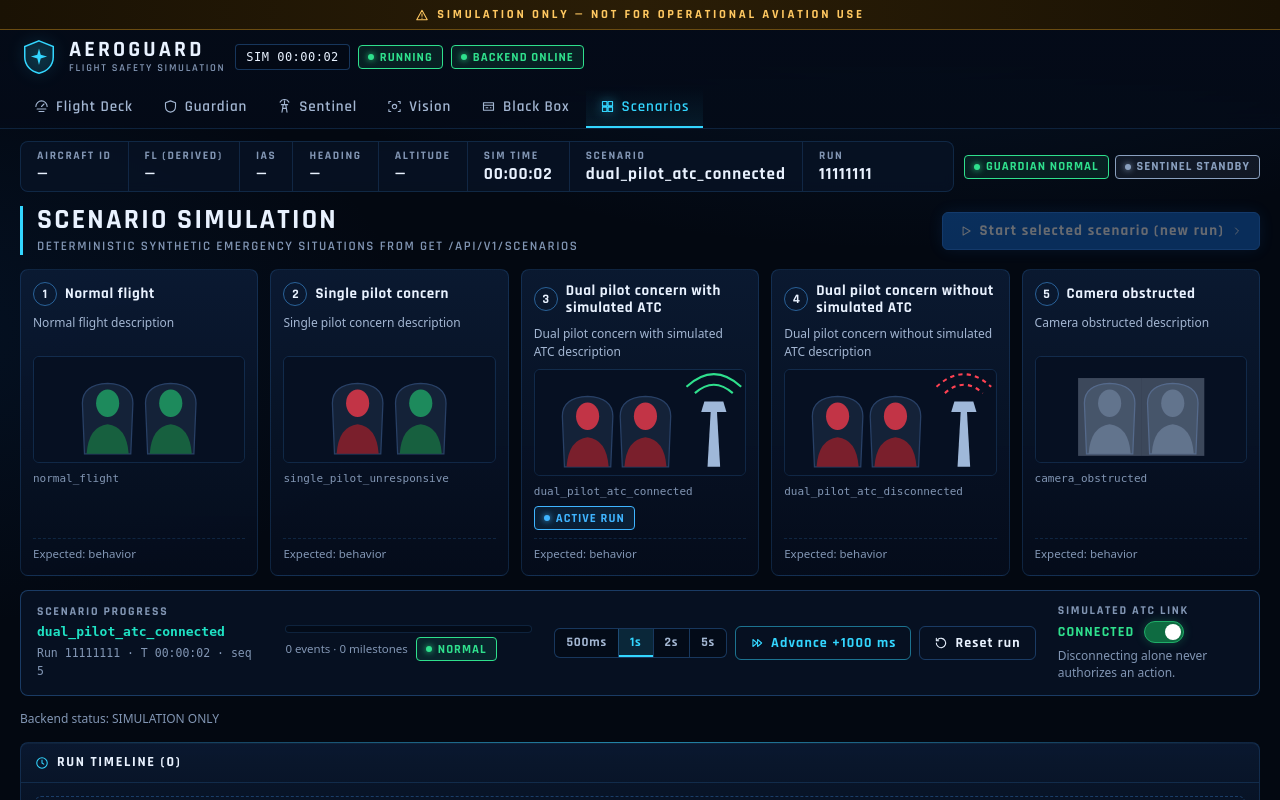
Scenario: ISSUE 4 REGRESSION: Bounded request timeout & command lock recovery › discards the late response of a timed-out command instead of overwriting newer state or the lock
Click the button "Advance +1000 ms": point(823, 643) [735, 626, 912, 660]
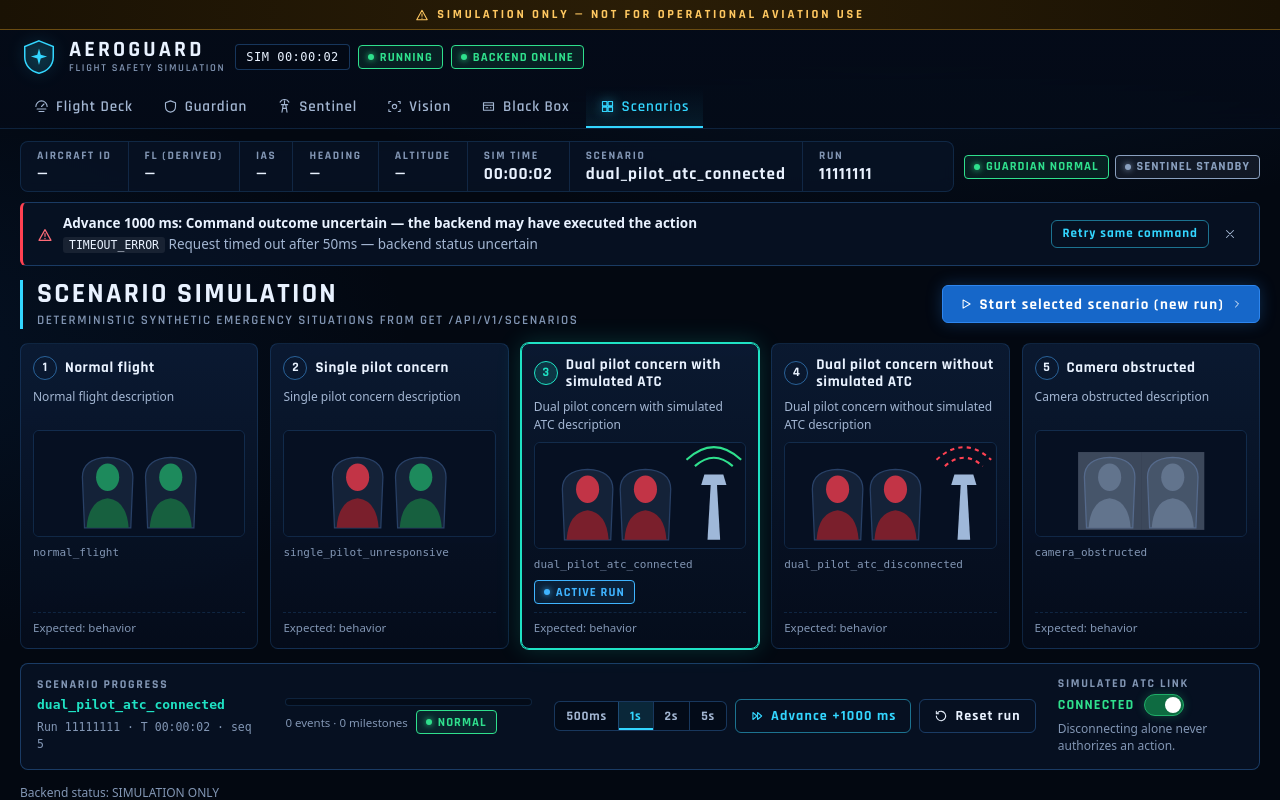
Click the button "Advance +1000 ms": point(823, 716) [735, 699, 912, 733]
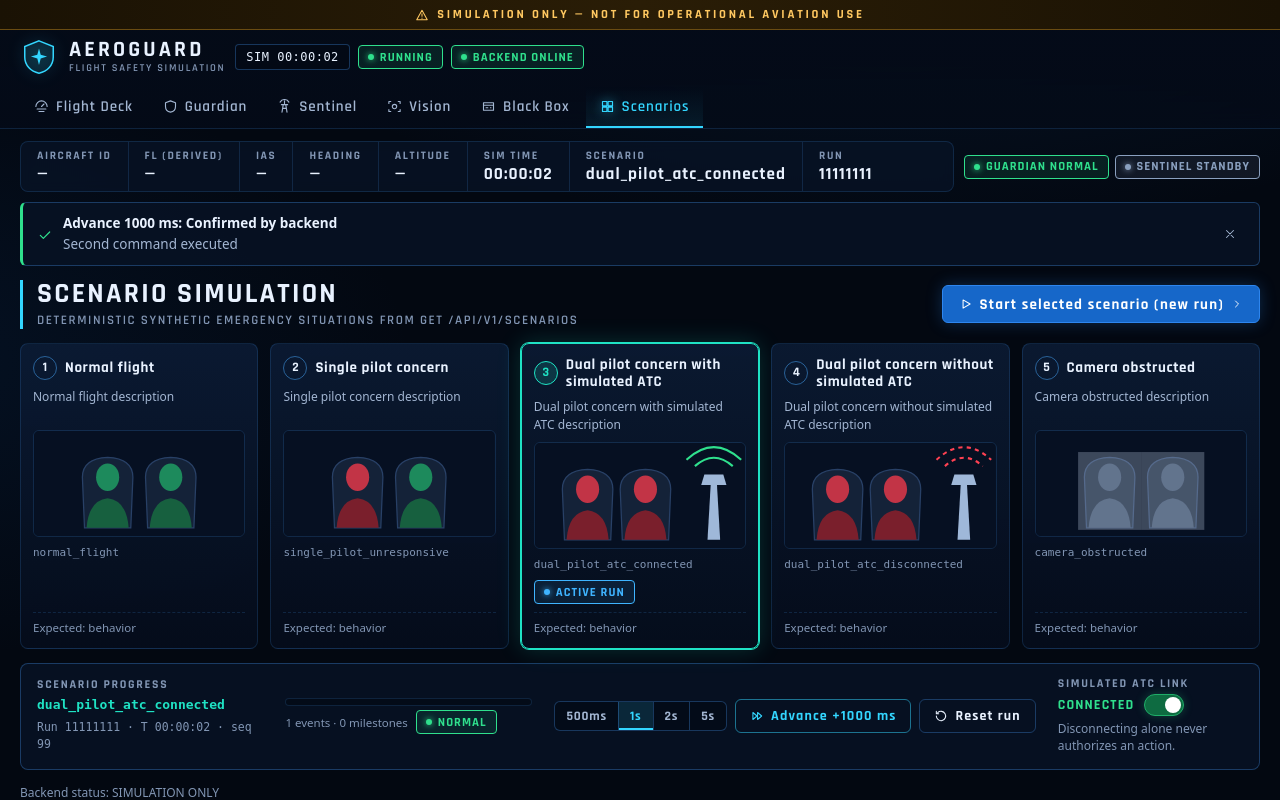
Now the text "Second command executed" is shown, box [63, 235, 238, 253]
